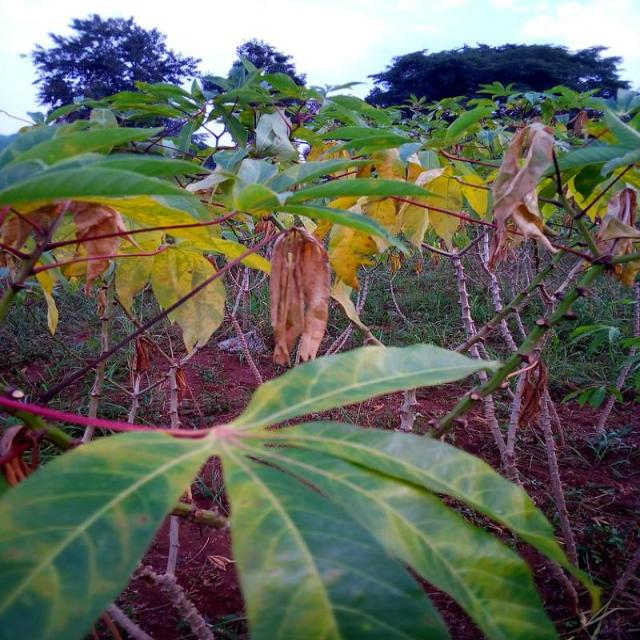cassava leaf: (0, 341, 598, 638), (219, 418, 598, 638), (0, 427, 210, 638)
